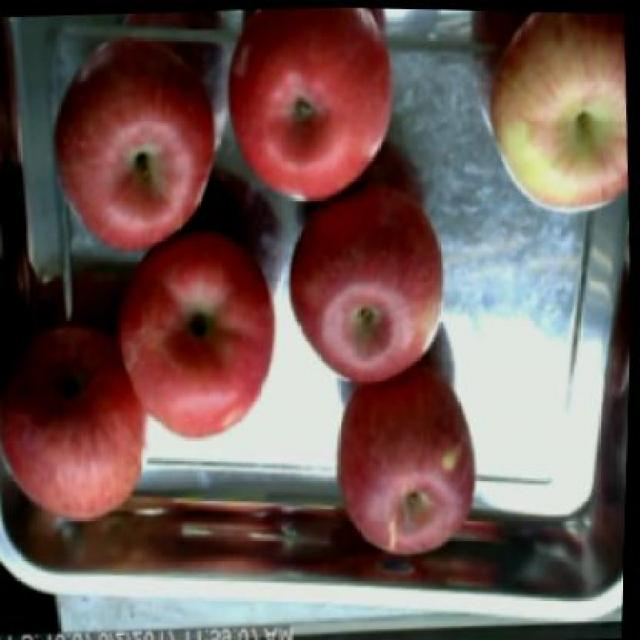Fresh Apple: (116, 234, 275, 453), (222, 0, 383, 212), (55, 41, 210, 253), (7, 306, 150, 533), (286, 207, 450, 386), (494, 0, 640, 195), (332, 390, 475, 568)
